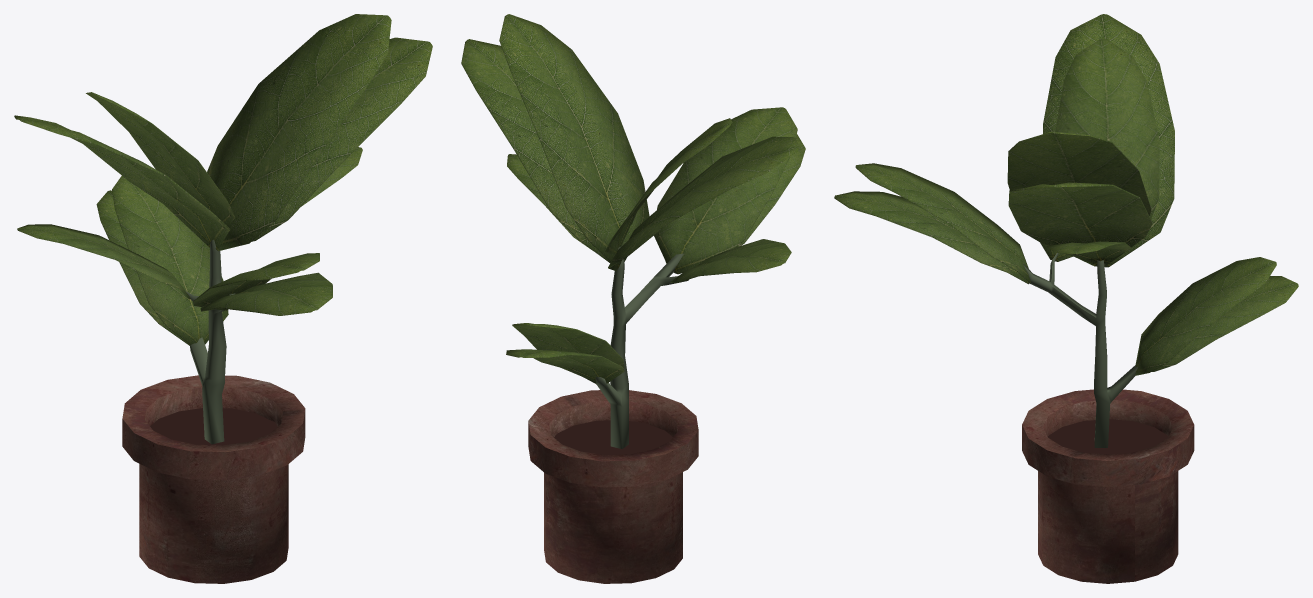
File: Plant_1.fbx
3 views of the same model, side by side, from view 1: azimuth 30°, elevation 25°; view 2: azimuth 150°, elevation 25°; view 3: azimuth 270°, elevation 25° (orthographic). The views are drawn at different scales.
Parts seen in each view (by area): view 1: Plane; view 2: Plane; view 3: Plane.
Part boxes in pixels (left/top/right/bottom): Plane: left=14, top=14, right=432, bottom=583; Plane: left=461, top=14, right=805, bottom=583; Plane: left=834, top=14, right=1298, bottom=583.
Bounding box in the file's own units: 121 × 157 × 135.
